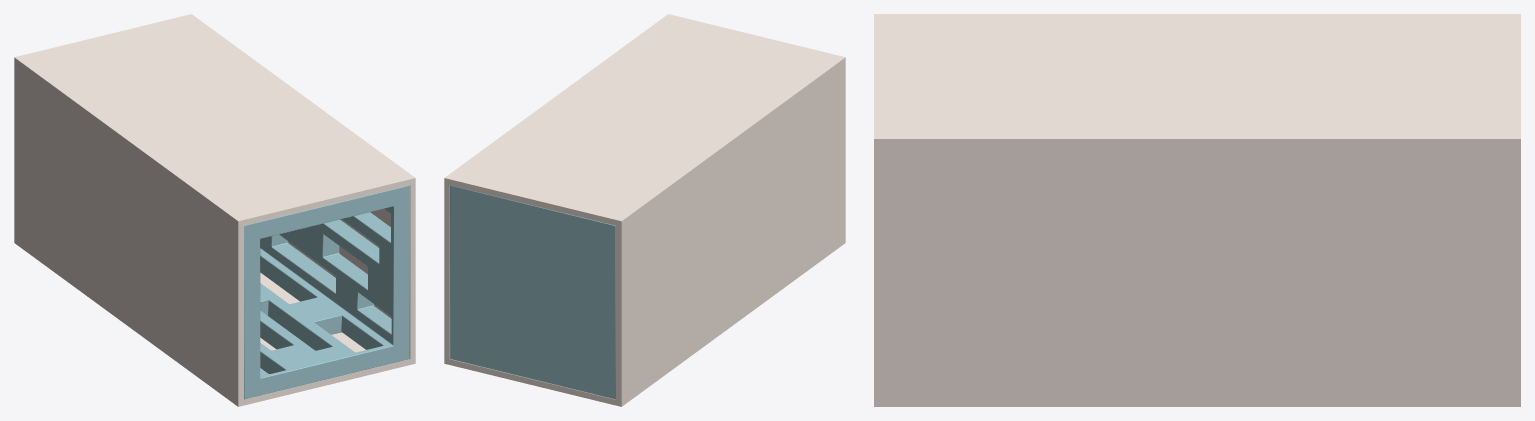
The model's file is 04 island draft.fbx.
The picture shows the model from 3 angles, left to right: view 1: azimuth 30°, elevation 25°; view 2: azimuth 150°, elevation 25°; view 3: azimuth 270°, elevation 25°; orthographic projection. The views are drawn at different scales.
Parts seen in each view (by area): view 1: wall_out, wall_in_1; view 2: wall_out, wall_in_1; view 3: wall_out.
Boxes of the visible parts, x1,y1,x2,y2 form: wall_out: (14,14,415,406); wall_in_1: (244,185,409,399); wall_out: (444,14,845,406); wall_in_1: (450,185,615,399); wall_out: (874,14,1520,406).
Size of the model in its own units: 1600 by 1600 by 3500.
